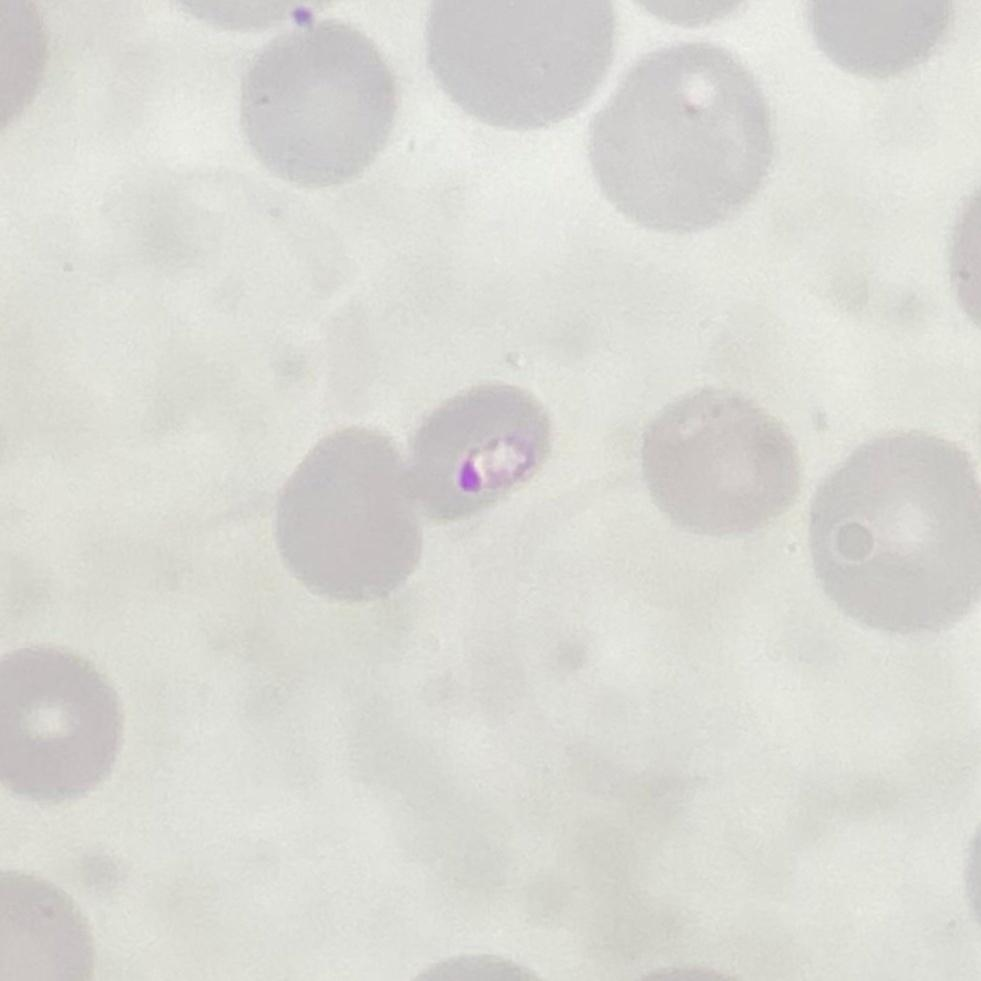Infected: (398, 378, 547, 527)
Uninfected: (810, 428, 981, 636), (592, 44, 774, 233), (240, 14, 401, 190), (272, 422, 427, 604), (424, 0, 614, 131), (640, 388, 798, 537), (0, 638, 121, 801)
